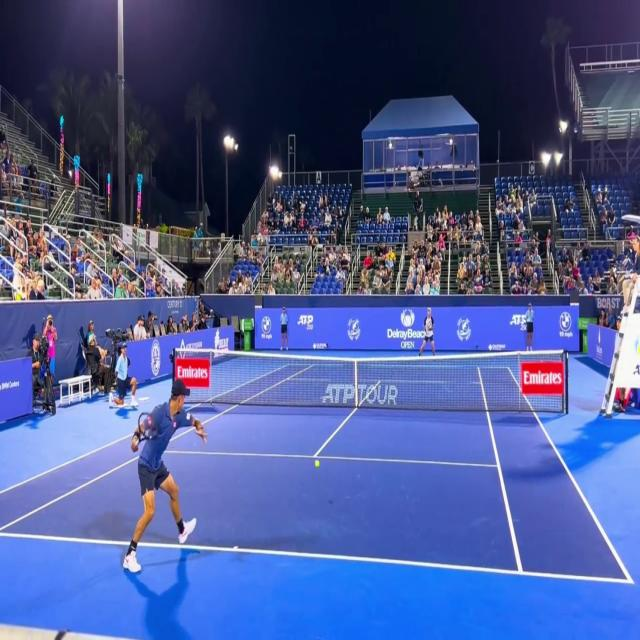tennisBall: (312, 454, 322, 474)
